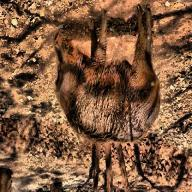boar: (46, 3, 169, 154)
